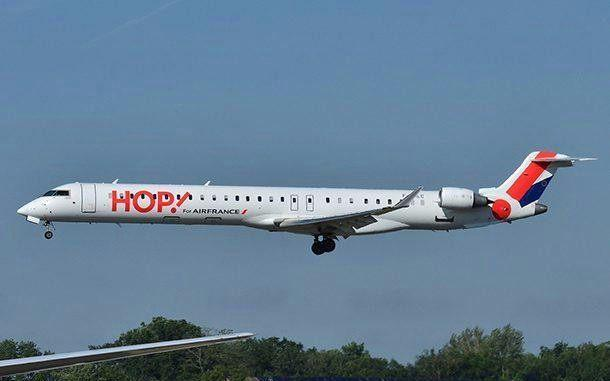airplane: (14, 147, 596, 241)
